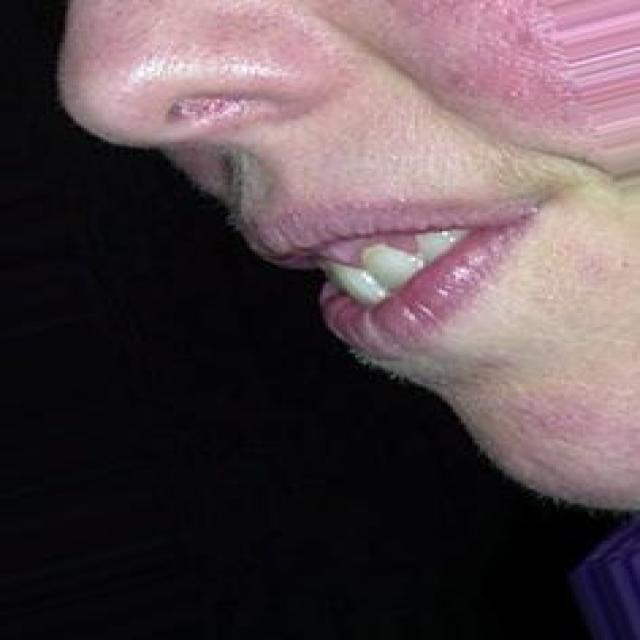Rosacea: (394, 0, 584, 128), (66, 11, 318, 79), (512, 395, 640, 442)
